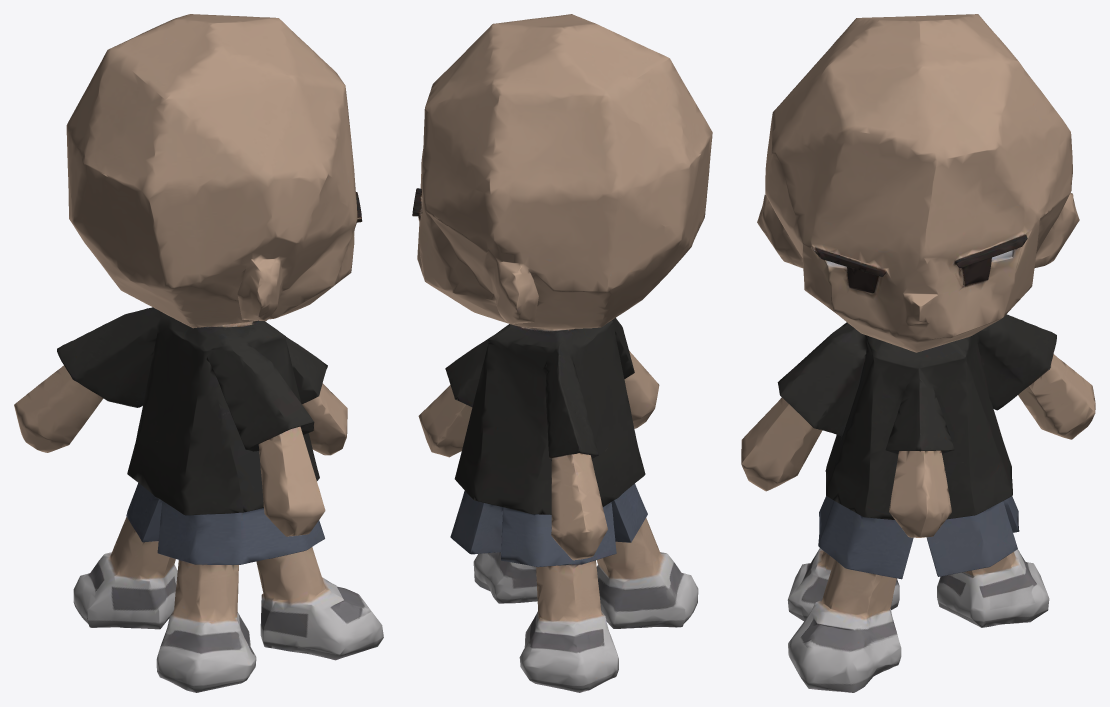
File: dressed.glb
The picture shows the model from 3 angles, left to right: view 1: azimuth 30°, elevation 25°; view 2: azimuth 150°, elevation 25°; view 3: azimuth 270°, elevation 25°; orthographic projection.
Parts seen in each view (by area): view 1: tripo_node_3bcaa8d5-aea1-466d-8cc2-856f9d6638d9; view 2: tripo_node_3bcaa8d5-aea1-466d-8cc2-856f9d6638d9; view 3: tripo_node_3bcaa8d5-aea1-466d-8cc2-856f9d6638d9.
Part boxes in pixels (<box>): tripo_node_3bcaa8d5-aea1-466d-8cc2-856f9d6638d9: <box>14,14,383,692</box>; tripo_node_3bcaa8d5-aea1-466d-8cc2-856f9d6638d9: <box>412,14,712,692</box>; tripo_node_3bcaa8d5-aea1-466d-8cc2-856f9d6638d9: <box>741,14,1095,692</box>.
Bounding box in the file's own units: 0.4715 × 1 × 0.5239.
1 material, 1 textured.
